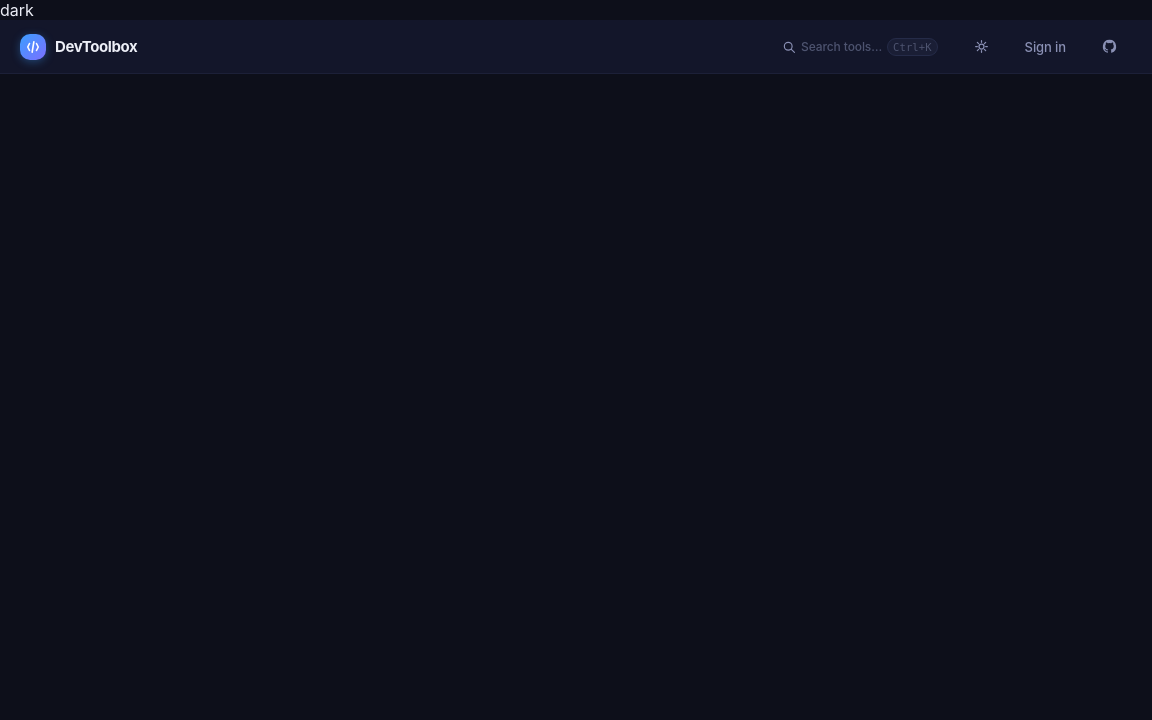
Test case: Header › opens the command palette from the search button
Click the text "Search tools…" at (842, 46), box [801, 39, 882, 54]
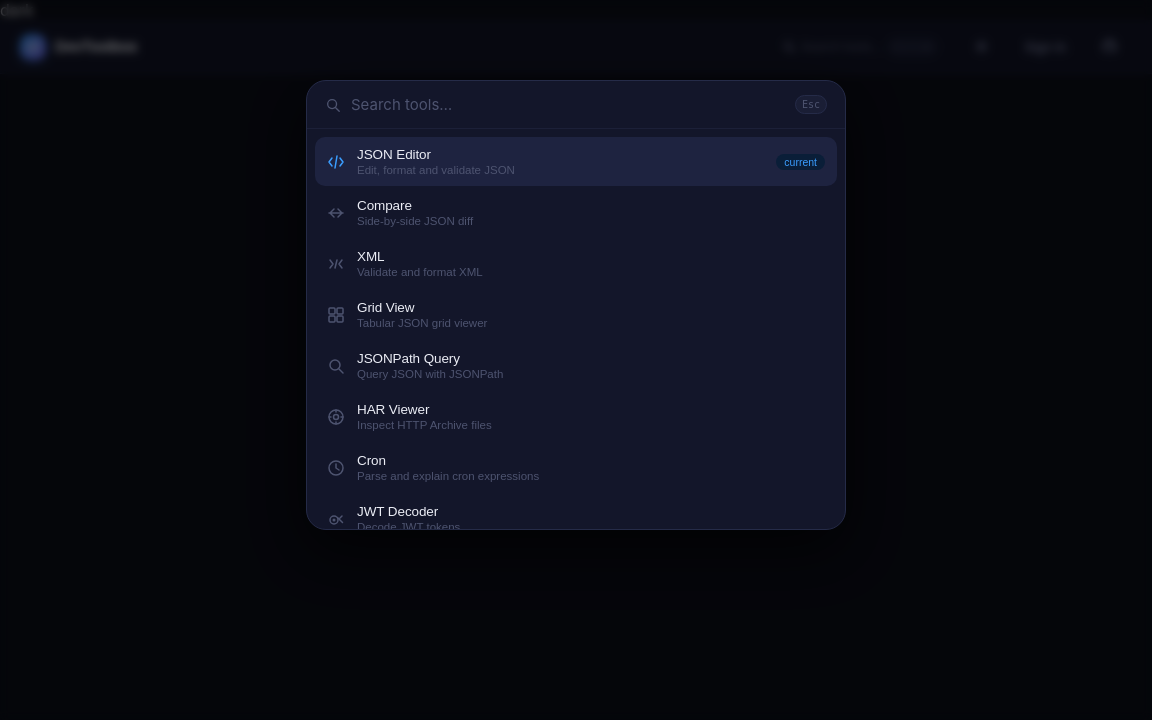
Now the dialog named "Command palette" is shown, box [306, 80, 846, 530]
